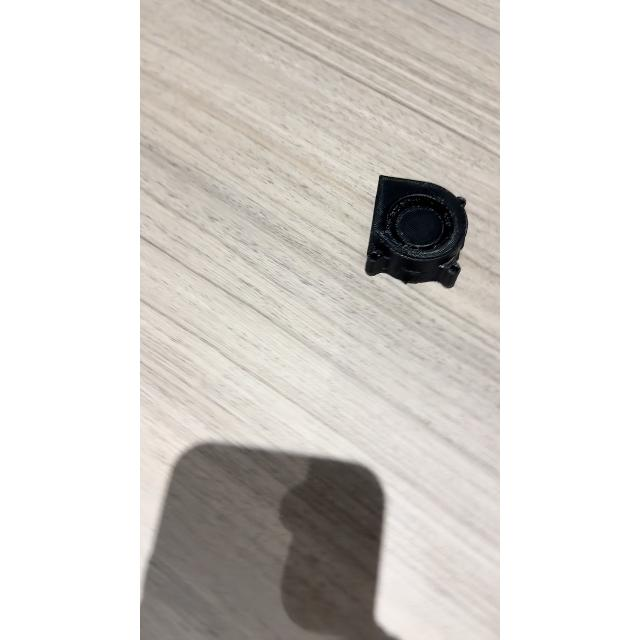Pieza_3: (356, 171, 480, 297)
